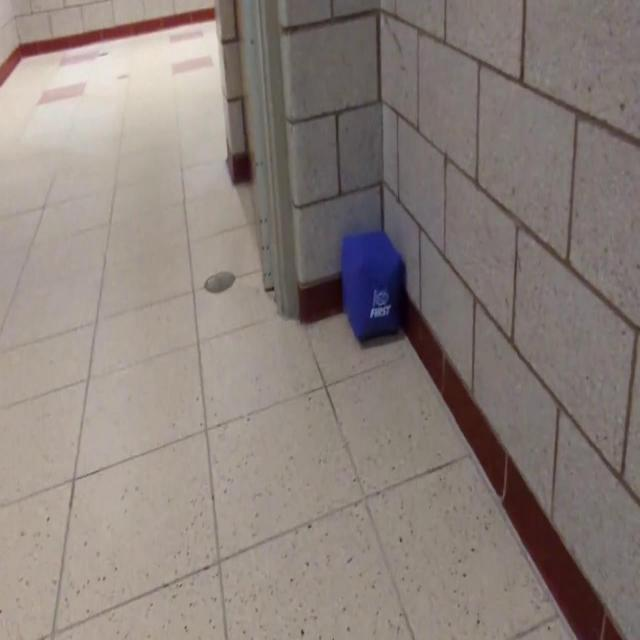frc_cube: (342, 231, 402, 345)
